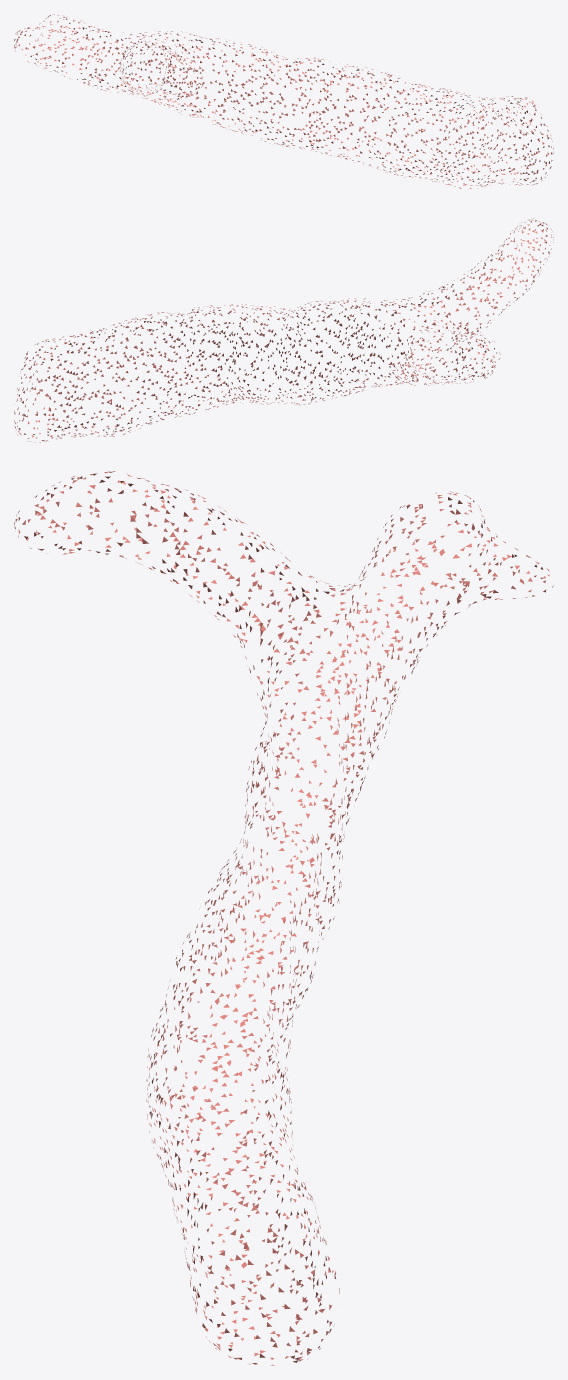
The model's file is morph_001.glb.
3 renders of one model, top to bottom at view 1: azimuth 30°, elevation 25°; view 2: azimuth 150°, elevation 25°; view 3: azimuth 270°, elevation 25°, orthographic. The views are drawn at different scales.
Bounding box in the file's own units: 130 × 68.29 × 65.6.
